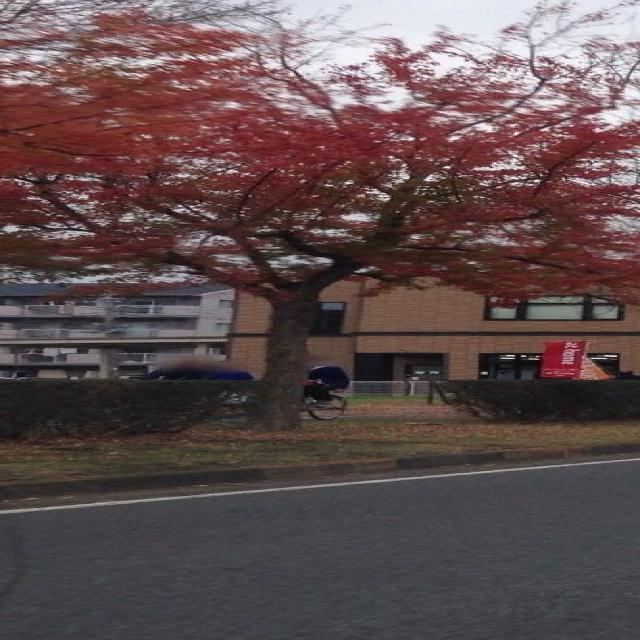maple: (0, 0, 640, 435)
